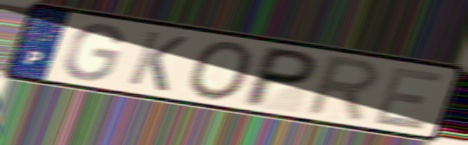E: (369, 65, 448, 133)
G: (60, 21, 127, 82)
K: (123, 28, 191, 94)
O: (184, 39, 256, 102)
P: (236, 44, 323, 110)
R: (301, 53, 384, 126)
